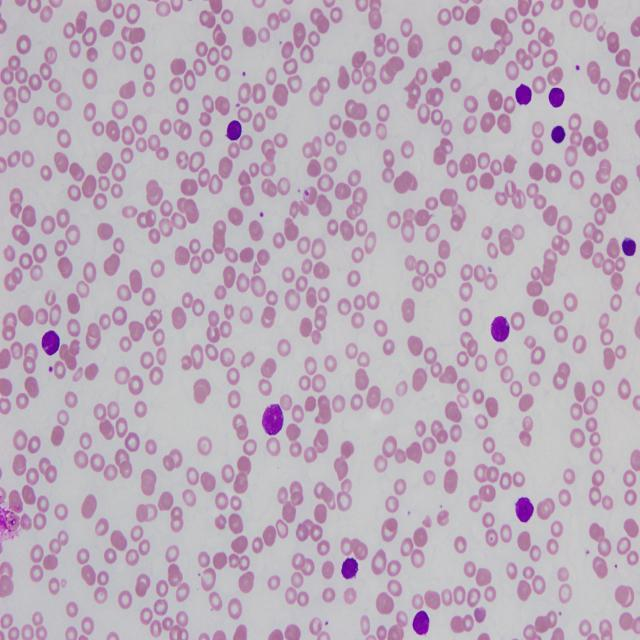cell: (262, 403, 284, 435), (491, 317, 510, 342), (515, 497, 534, 522), (41, 330, 60, 355), (412, 610, 429, 635), (515, 83, 531, 105), (341, 558, 358, 578), (549, 87, 565, 108), (226, 120, 241, 140), (621, 238, 636, 257), (551, 125, 565, 143)
